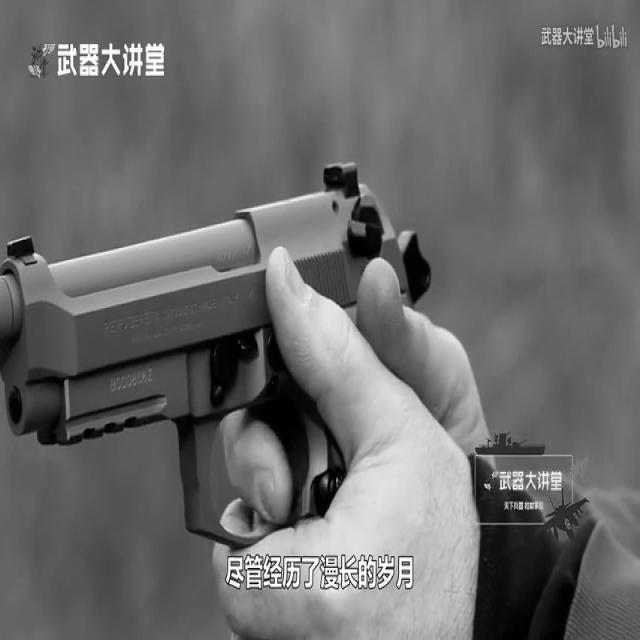Hand-Gun: (0, 64, 467, 640)
